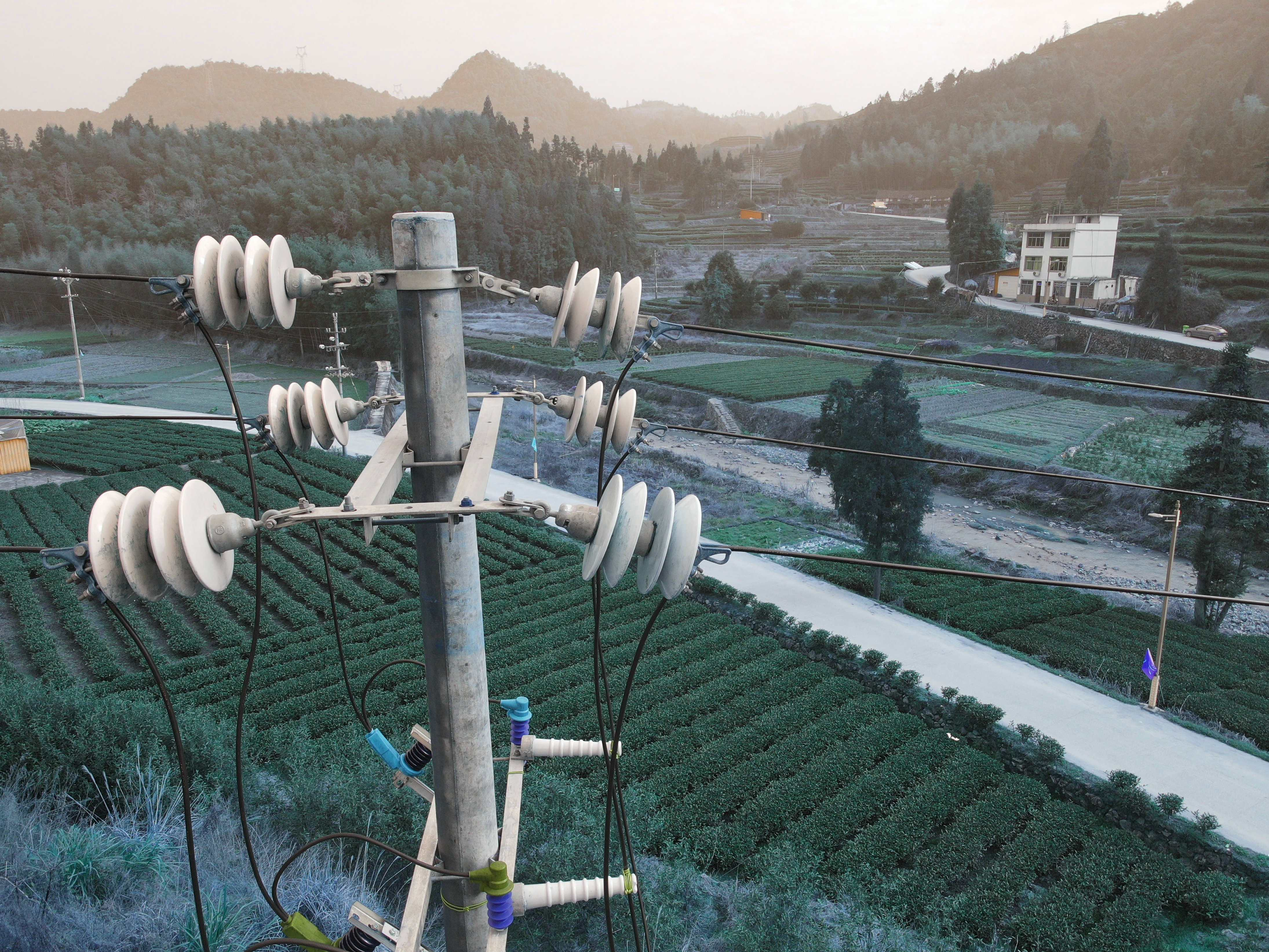severe_soiling_no_discharge_whole: (83, 480, 251, 605), (192, 229, 322, 334), (535, 259, 644, 366), (268, 376, 365, 452)
